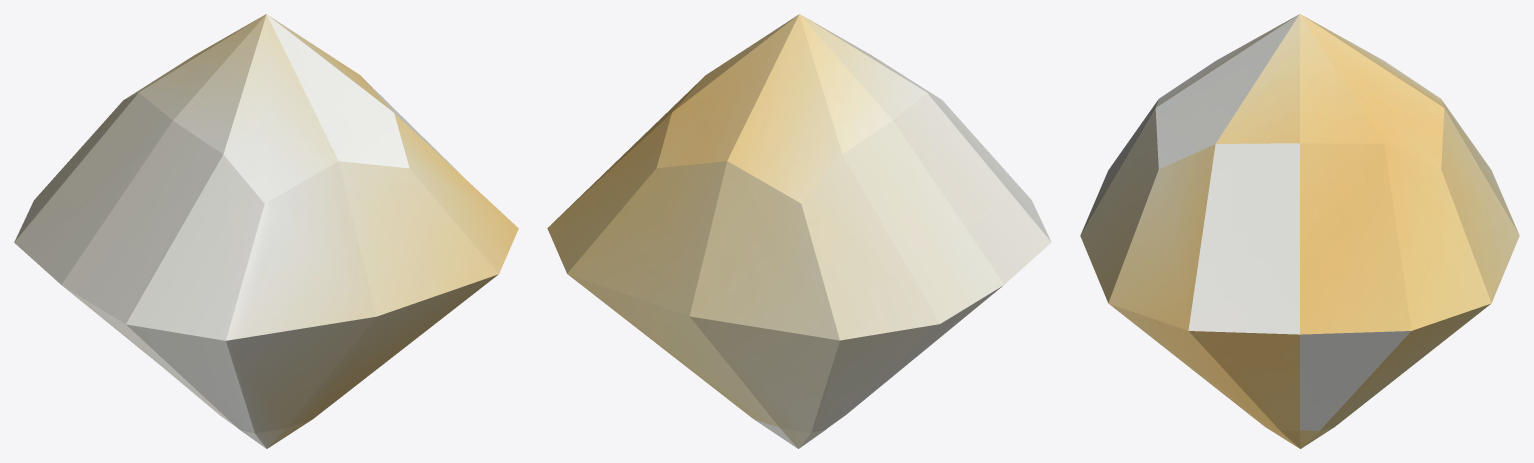
The model's file is smallYellowCrystal1.fbx.
3 views of the same model, side by side, from view 1: azimuth 30°, elevation 25°; view 2: azimuth 150°, elevation 25°; view 3: azimuth 270°, elevation 25° (orthographic).
Visible parts, largest first — view 1: small yellow 1; view 2: small yellow 1; view 3: small yellow 1.
Part boxes in pixels (x1,y1,x2,y2): small yellow 1: [14, 14, 518, 448]; small yellow 1: [547, 14, 1051, 448]; small yellow 1: [1080, 14, 1519, 448].
Bounding box in the file's own units: 94.79 × 96.04 × 88.05.
Materials: 1 (1 with a texture image).
